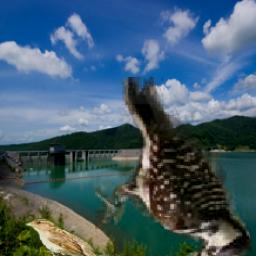Sparrow: (26, 219, 112, 256)
Woodpecker: (96, 78, 252, 256)
